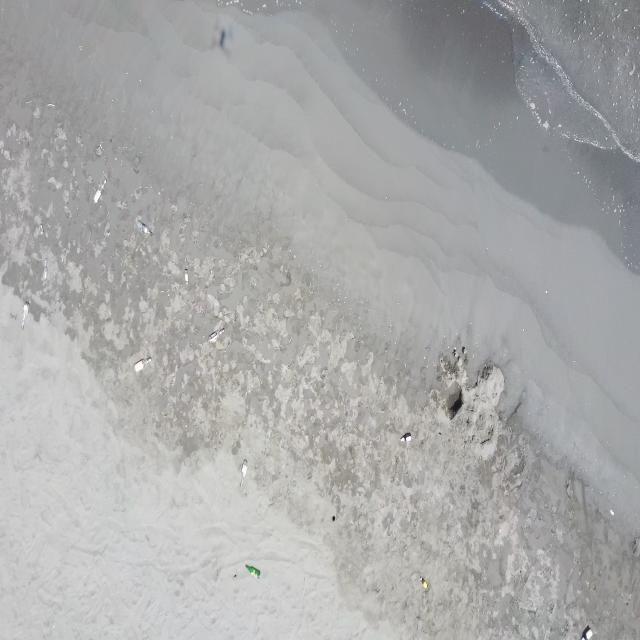glass: (93, 180, 107, 206), (208, 326, 226, 346), (134, 356, 152, 374), (20, 302, 30, 331), (136, 219, 153, 236), (240, 459, 248, 490), (244, 565, 261, 578), (399, 432, 412, 444), (583, 626, 595, 639), (43, 259, 49, 282), (419, 576, 428, 590), (184, 268, 190, 287), (39, 223, 44, 235)
